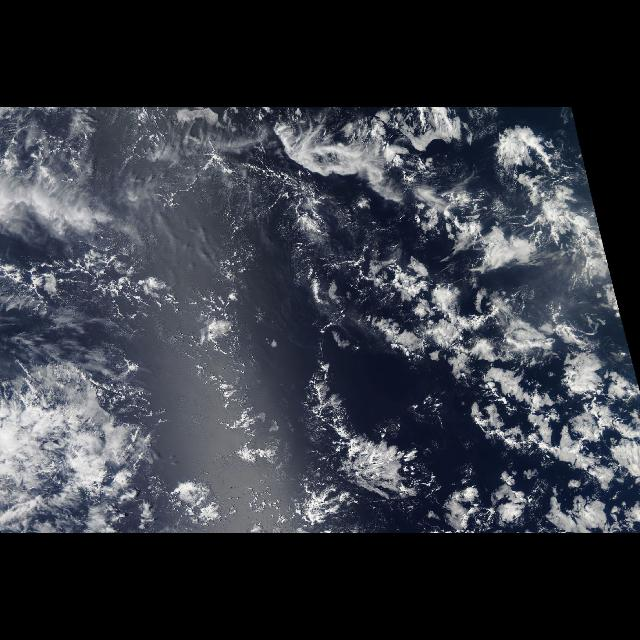Flower: (289, 230, 639, 476)
Gravel: (0, 225, 250, 377)
